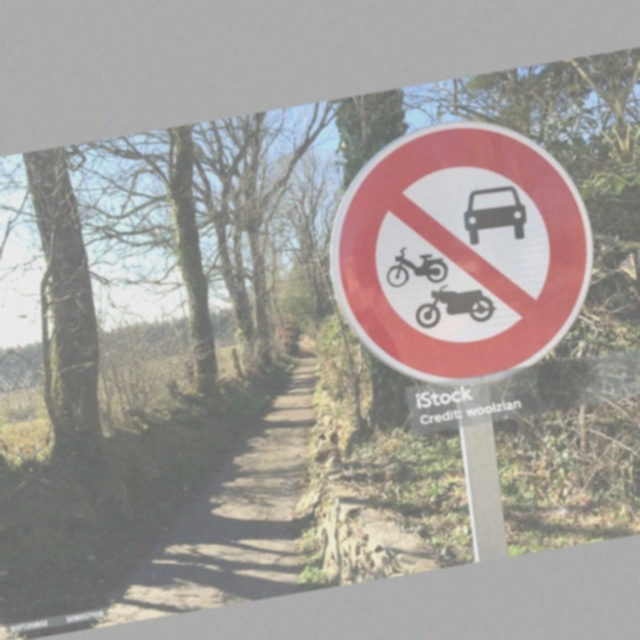All_Motor_Vehicles_Prohibited: (312, 101, 613, 397)
